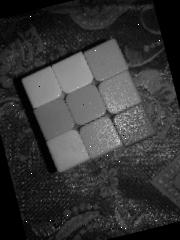plastic: (12, 33, 162, 178), (95, 68, 143, 116), (82, 36, 130, 84), (77, 113, 124, 161)
